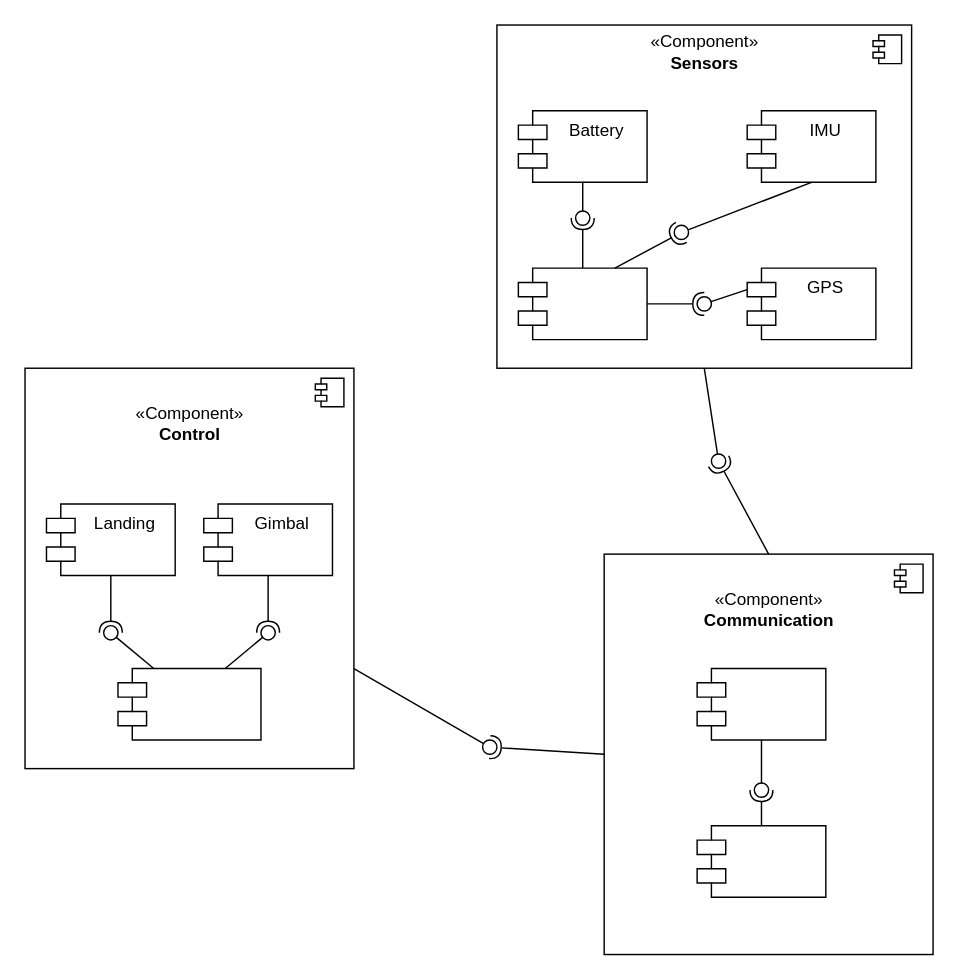
Some shapes in this 958 by 980 pixel diagram are drawn without their labels. The centre of each missing label's shape, as x and y in pixels:
"Guidance System" goes at [189,703].
"Logger" goes at [761,860].
"Radio" goes at [761,703].
"Sensor Manager" goes at [582,303].
